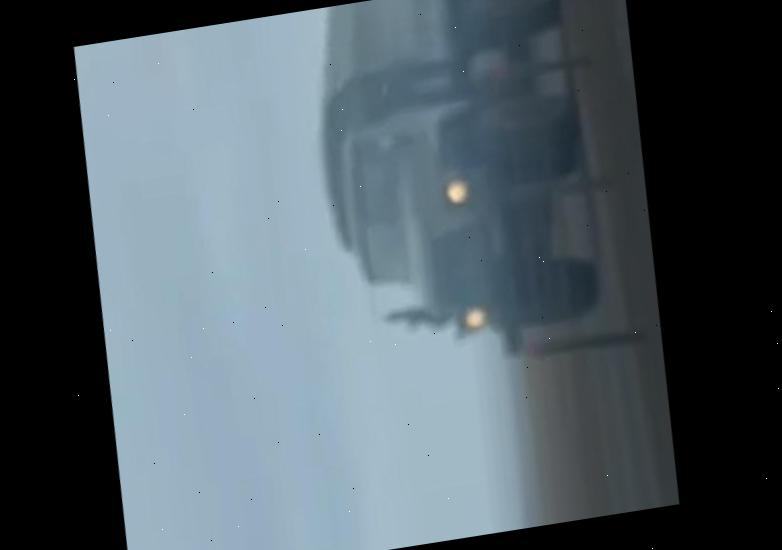truck: (283, 0, 636, 382)
